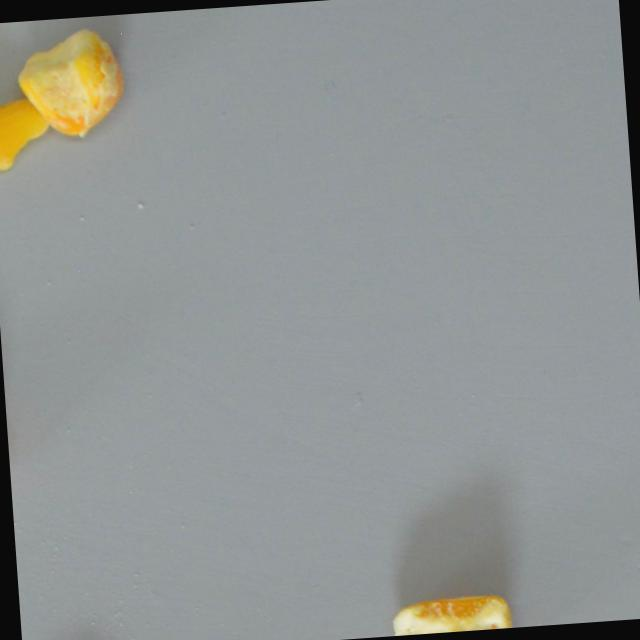dañado: (8, 19, 132, 143), (385, 588, 516, 636), (0, 93, 55, 179)
